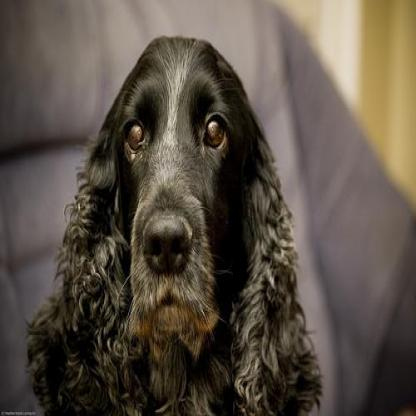cocker_spaniel: (25, 32, 326, 414)
